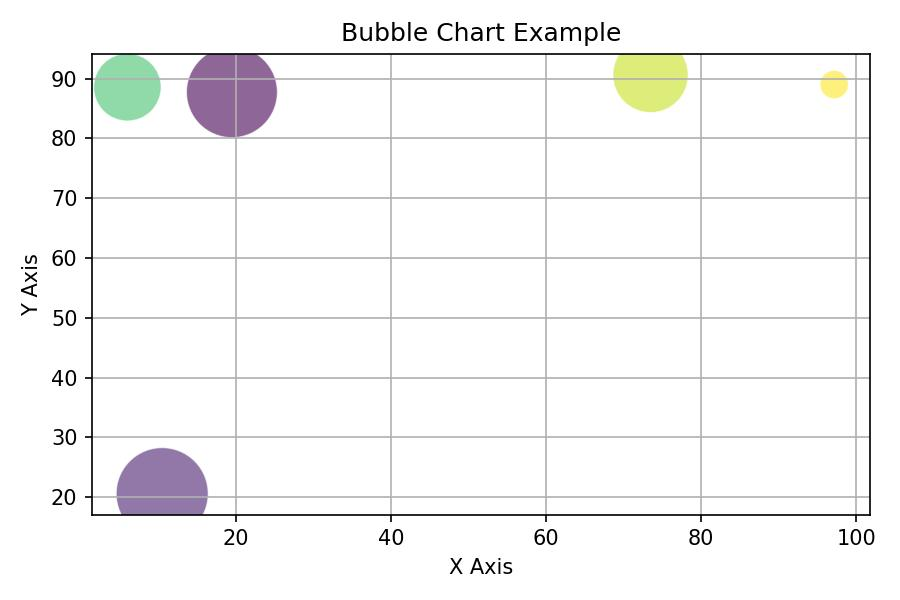axis: (74, 506, 888, 555), (48, 43, 101, 536)
circle: (189, 52, 279, 139), (118, 445, 211, 516), (612, 54, 689, 110), (93, 54, 160, 118), (819, 72, 849, 96)
